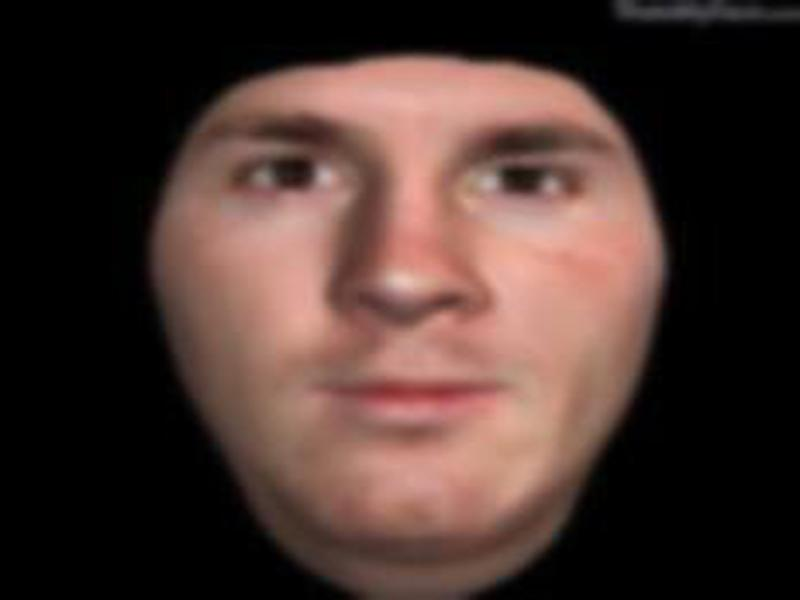without_mask: (149, 57, 665, 591)
